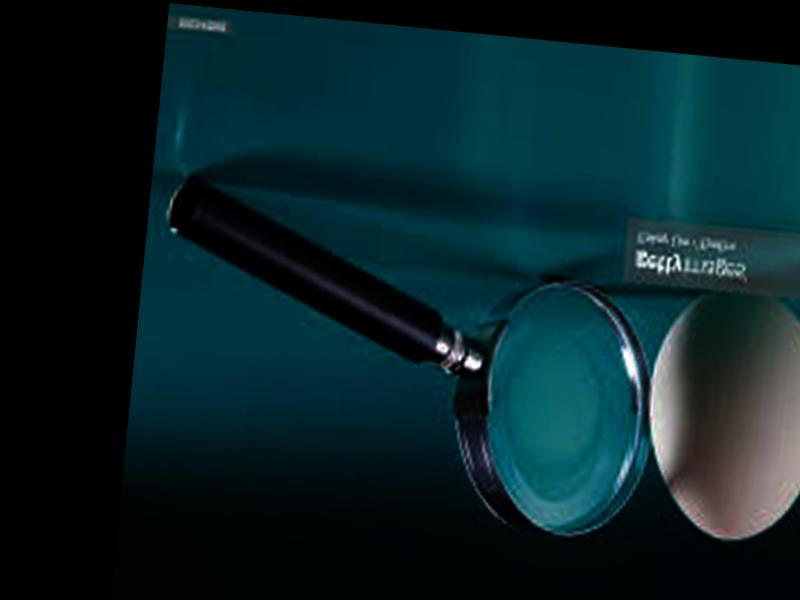Eggs: (634, 281, 800, 550)
